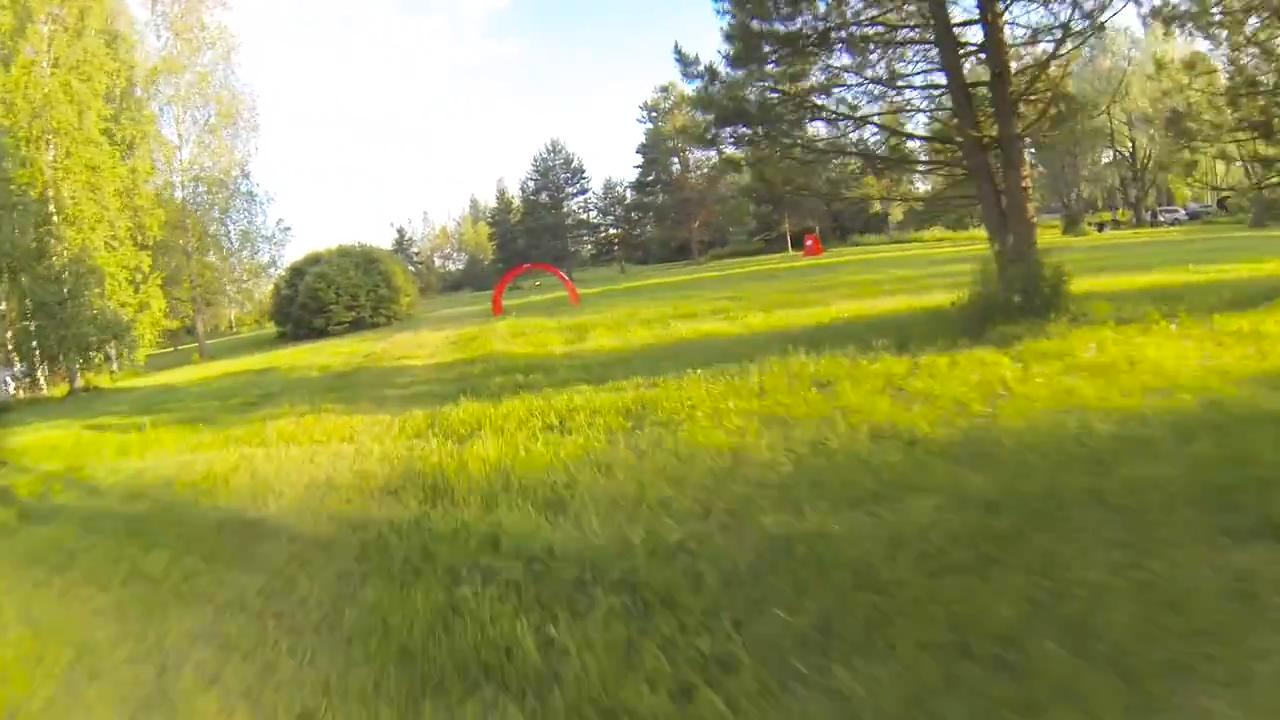gate: (489, 259, 585, 317)
